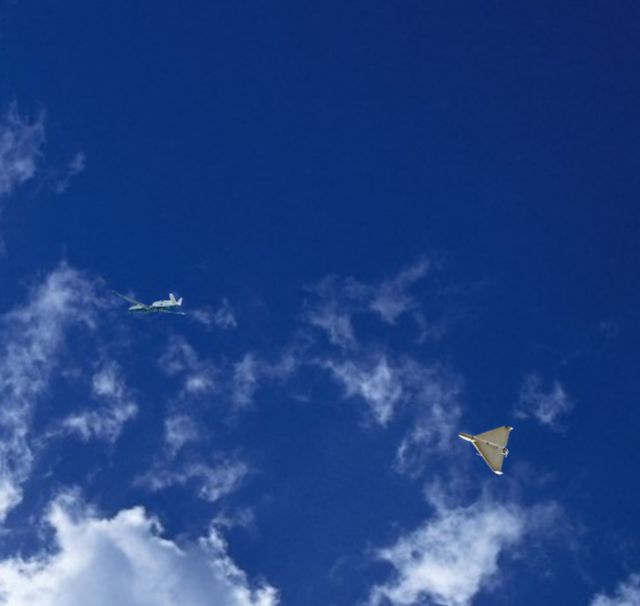military drone: (458, 425, 514, 475), (112, 289, 187, 315)
